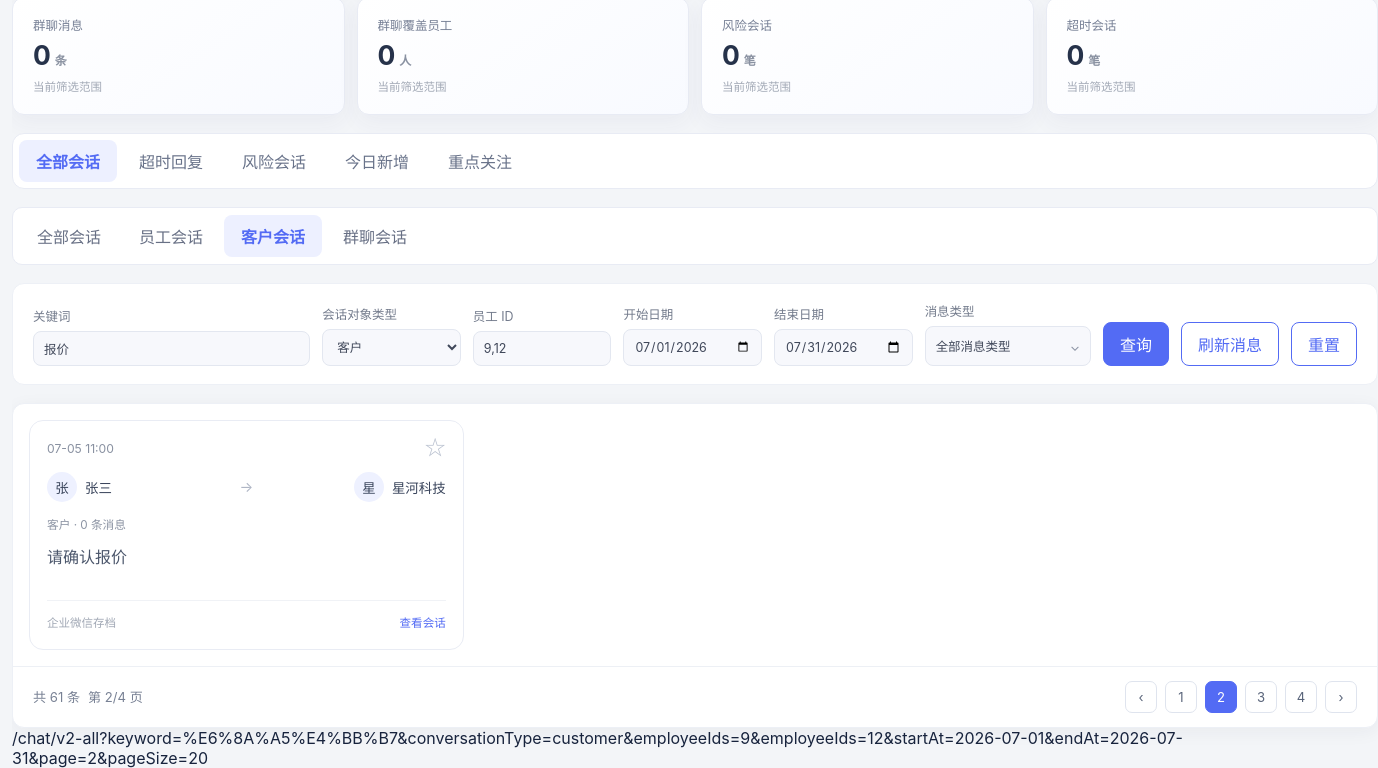
Test: ConversationGlobalPage › restores filters from the URL, renders real results, and paginates in the URL
The image size is (1378, 768).
(page scrolled)
Expected: the text "星河科技" is shown, x1=392 y1=477 x2=446 y2=497
Expected: the field showing "报价" is shown, x1=33 y1=331 x2=310 y2=366
Click the button named "下一页" at {"x": 1341, "y": 697}, box x1=1325 y1=681 x2=1357 y2=713
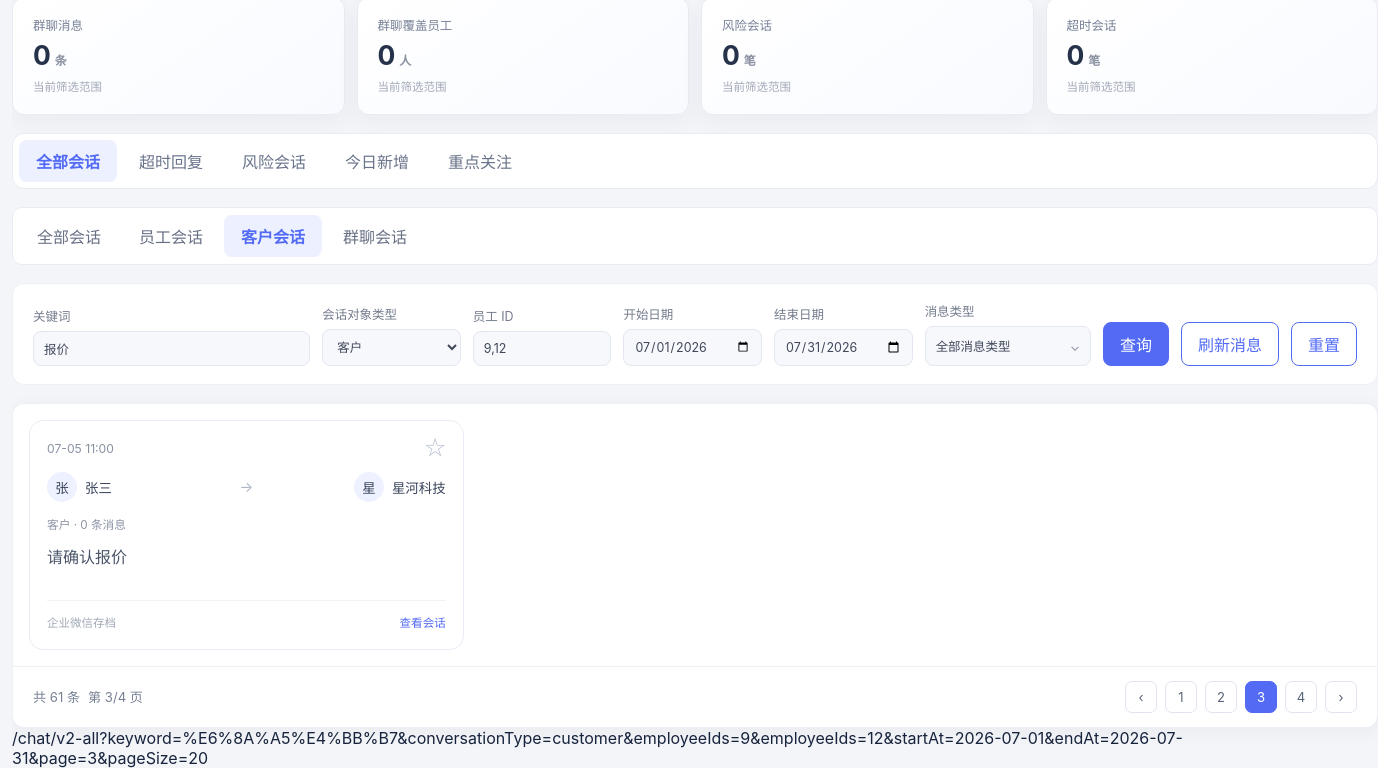
Now the text named "当前地址" shows "page=3", box x1=12 y1=728 x2=1183 y2=767
